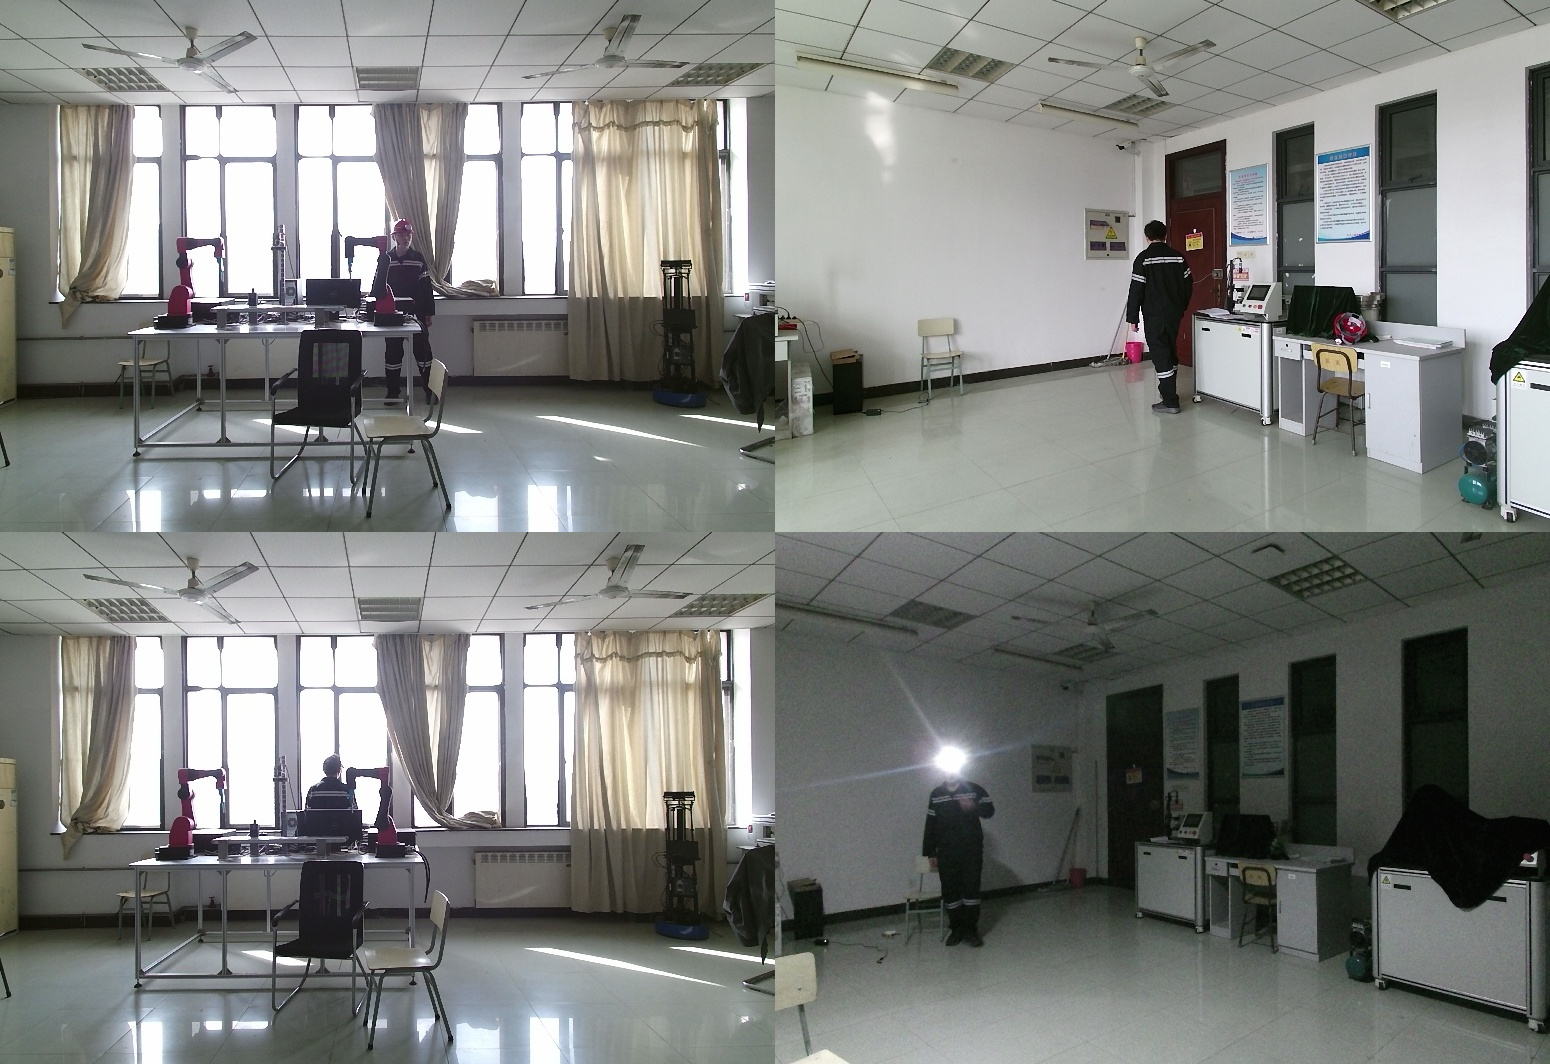person: (917, 753, 998, 962), (1126, 220, 1205, 420), (368, 219, 437, 406), (299, 754, 364, 841)
